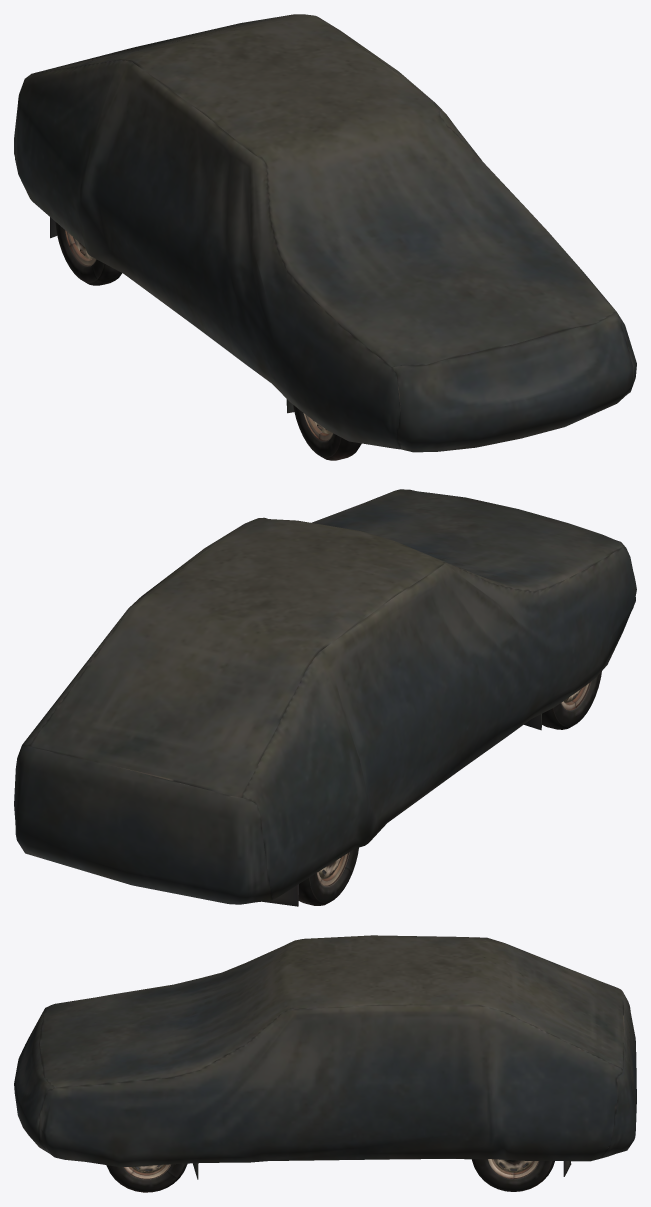
File: covered_car.bea9c7b725.glb
3 renders of one model, top to bottom at view 1: azimuth 30°, elevation 25°; view 2: azimuth 150°, elevation 25°; view 3: azimuth 270°, elevation 25°, orthographic. The views are drawn at different scales.
Visible parts, largest first — view 1: covered_car, covered_car_wheel_03, covered_car_wheel_02; view 2: covered_car, covered_car_wheel_03, covered_car_wheel_02; view 3: covered_car, covered_car_wheel_04, covered_car_wheel_01.
Boxes of the visible parts, x1,y1,x2,y2 form: covered_car: (14, 14, 636, 452); covered_car_wheel_03: (55, 222, 121, 285); covered_car_wheel_02: (293, 405, 361, 460); covered_car: (14, 489, 636, 906); covered_car_wheel_03: (298, 847, 358, 905); covered_car_wheel_02: (542, 671, 601, 729); covered_car: (14, 935, 636, 1179); covered_car_wheel_04: (472, 1159, 554, 1191); covered_car_wheel_01: (106, 1163, 187, 1192).
Bounding box in the file's own units: 1.79 × 1.41 × 4.38.
1 material, 1 textured.
